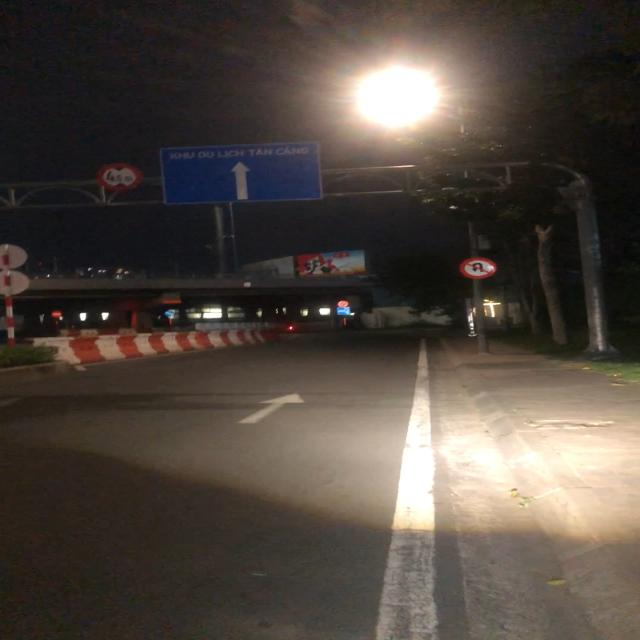Bien bao han che chieu cao: (96, 163, 144, 193)
